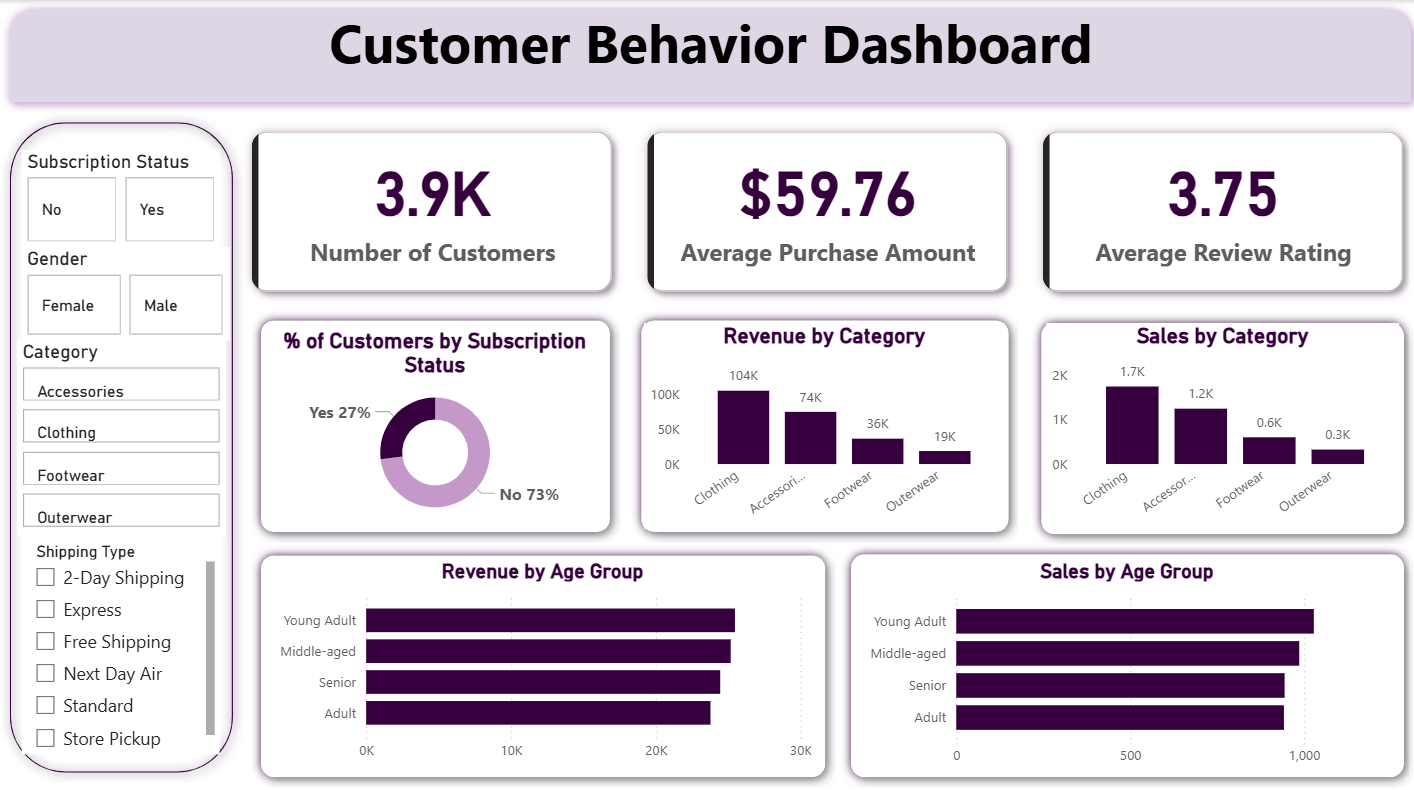

This screenshot's page, from the dashboard's own definition file:
{"tool":"powerbi","page":{"name":"Page 1","canvas":[1280,720],"ordinal":0},"visuals":[{"type":"cardVisual","fields":{"Data":["public customer.Number of Customers","public customer.Average Purchase Amount","public customer.Average Review Rating"]},"box":[209.4,101.1,1070.6,178.4],"z":0},{"type":"textbox","box":[0,360,1280,43.3],"z":1000},{"type":"shape","box":[568.3,279.5,348.6,208.3],"z":2000},{"type":"shape","box":[0,0,1280,101.1],"z":3000},{"type":"clusteredColumnChart","title":"Revenue by Category","fields":{"Category":["public customer.category"],"Y":["Sum(public customer.purchase_amount)"]},"box":[579.6,290.9,324.9,184.6],"z":4000},{"type":"shape","box":[225.9,279.5,332.1,208.3],"z":5000},{"type":"shape","box":[928.3,281.6,344.5,208.3],"z":6000},{"type":"clusteredColumnChart","title":"Sales by Category","fields":{"Category":["public customer.category"],"Y":["CountNonNull(public customer.customer_id)"]},"box":[941.7,290.9,317.7,183.6],"z":7000},{"type":"donutChart","title":"% of Customers by Subscription Status ","fields":{"Category":["public customer.subscription_status"],"Y":["CountNonNull(public customer.customer_id)"]},"box":[239.3,295,304.3,180.5],"z":8000},{"type":"shape","box":[0,101.1,218.7,603.4],"z":9000},{"type":"advancedSlicerVisual","fields":{"Values":["public customer.subscription_status"]},"box":[19.6,135.1,178.4,87.7],"z":10000},{"type":"advancedSlicerVisual","fields":{"Values":["public customer.gender"]},"box":[19.6,222.8,187.7,83.5],"z":11000},{"type":"advancedSlicerVisual","fields":{"Values":["public customer.category"]},"box":[15.5,306.3,187.7,176.4],"z":12000},{"type":"slicer","fields":{"Values":["public customer.shipping_type"]},"box":[19.6,482.7,178.4,196],"z":13000},{"type":"shape","box":[757,489.9,515.7,218.7],"z":14000},{"type":"shape","box":[225.9,490.9,526,217.6],"z":15000},{"type":"clusteredBarChart","title":"Revenue by Age Group","fields":{"Y":["Sum(public customer.previous_purchases)"],"Category":["public customer.age_group"]},"box":[241.3,503.3,494,189.8],"z":16000},{"type":"clusteredBarChart","title":"Sales by Age Group","fields":{"Y":["CountNonNull(public customer.customer_id)"],"Category":["public customer.age_group"]},"box":[772.5,503.3,483.7,194.9],"z":17000},{"type":"textbox","box":[0,0,1280,93.9],"z":18000}]}

Visuals, with their boxes in screenshot pixels (x1, y1, x2, y2), scaled from the page's 1280x720 canvas onto the 1414x790 screenshot:
cardVisual - public customer.Number of Customers x public customer.Average Purchase Amount: {"x1": 231, "y1": 111, "x2": 1413, "y2": 307}
textbox: {"x1": 0, "y1": 395, "x2": 1413, "y2": 443}
shape: {"x1": 628, "y1": 307, "x2": 1013, "y2": 535}
shape: {"x1": 0, "y1": 0, "x2": 1413, "y2": 111}
"Revenue by Category" clusteredColumnChart: {"x1": 640, "y1": 319, "x2": 999, "y2": 522}
shape: {"x1": 250, "y1": 307, "x2": 616, "y2": 535}
shape: {"x1": 1025, "y1": 309, "x2": 1406, "y2": 538}
"Sales by Category" clusteredColumnChart: {"x1": 1040, "y1": 319, "x2": 1391, "y2": 521}
"% of Customers by Subscription Status " donutChart: {"x1": 264, "y1": 324, "x2": 601, "y2": 522}
shape: {"x1": 0, "y1": 111, "x2": 242, "y2": 773}
advancedSlicerVisual - public customer.subscription_status: {"x1": 22, "y1": 148, "x2": 219, "y2": 244}
advancedSlicerVisual - public customer.gender: {"x1": 22, "y1": 244, "x2": 229, "y2": 336}
advancedSlicerVisual - public customer.category: {"x1": 17, "y1": 336, "x2": 224, "y2": 530}
slicer - public customer.shipping_type: {"x1": 22, "y1": 530, "x2": 219, "y2": 745}
shape: {"x1": 836, "y1": 538, "x2": 1406, "y2": 777}
shape: {"x1": 250, "y1": 539, "x2": 831, "y2": 777}
"Revenue by Age Group" clusteredBarChart: {"x1": 267, "y1": 552, "x2": 812, "y2": 760}
"Sales by Age Group" clusteredBarChart: {"x1": 853, "y1": 552, "x2": 1388, "y2": 766}
textbox: {"x1": 0, "y1": 0, "x2": 1413, "y2": 103}
